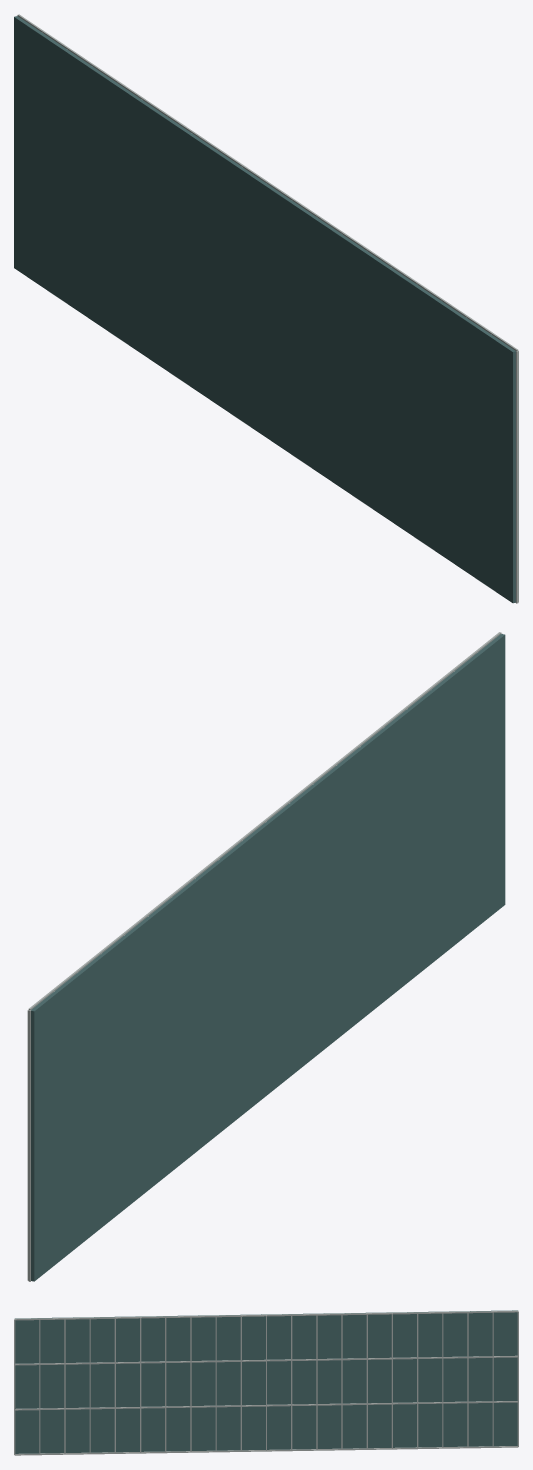
Rendered from rec-east-detail-2026-11-04.glb.
3 renders of one model, top to bottom at view 1: azimuth 30°, elevation 25°; view 2: azimuth 150°, elevation 25°; view 3: azimuth 270°, elevation 25°, orthographic. The views are drawn at different scales.
Parts seen in each view (by area): view 1: exterior-detail-building; view 2: exterior-detail-building; view 3: exterior-detail-building.
Part boxes in pixels (x1,y1,x2,y2): exterior-detail-building: (14, 14, 518, 603); exterior-detail-building: (27, 632, 505, 1281); exterior-detail-building: (14, 1310, 518, 1455).
Size of the model in its own units: 2.23 by 14.94 by 50.13.
